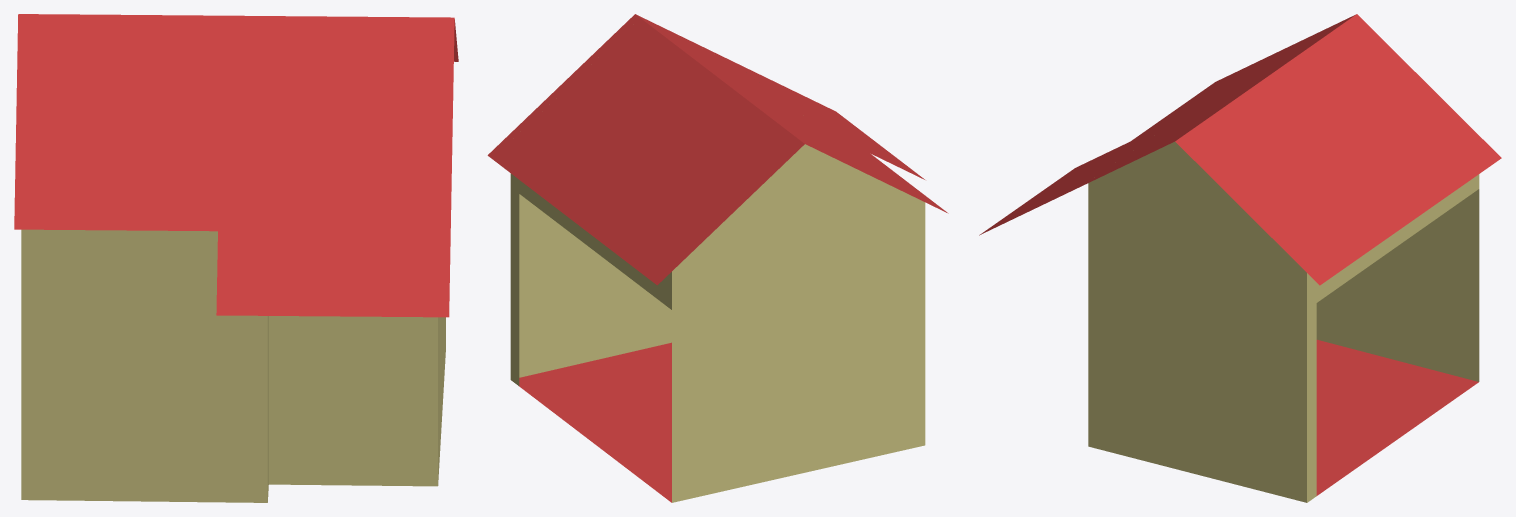
3 renders of one model, left to right at view 1: azimuth 30°, elevation 25°; view 2: azimuth 150°, elevation 25°; view 3: azimuth 270°, elevation 25°, orthographic. The views are drawn at different scales.
Bounding box in the file's own units: 13.31 × 14.69 × 10.3.
